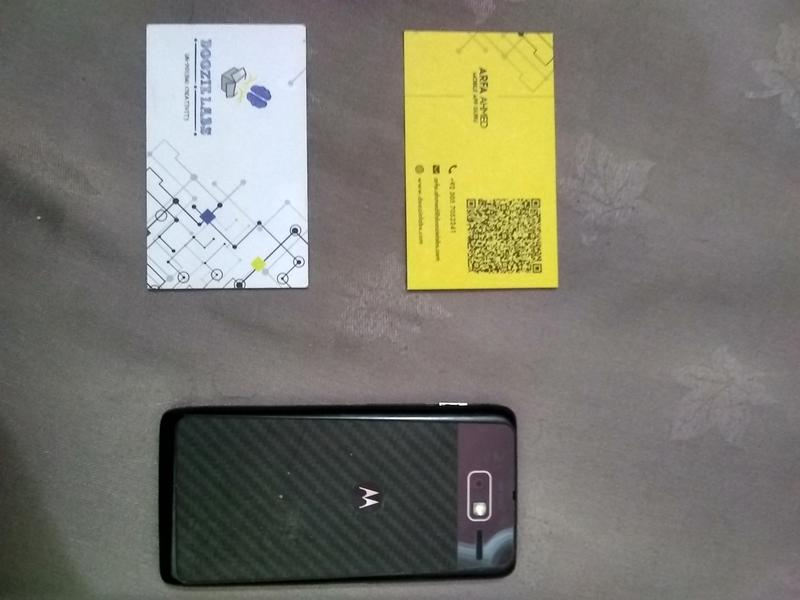back: (142, 19, 309, 293)
front: (401, 27, 560, 290)
moto: (156, 406, 517, 588)
